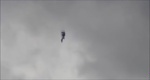maybay_muctieu: (60, 30, 66, 43)
